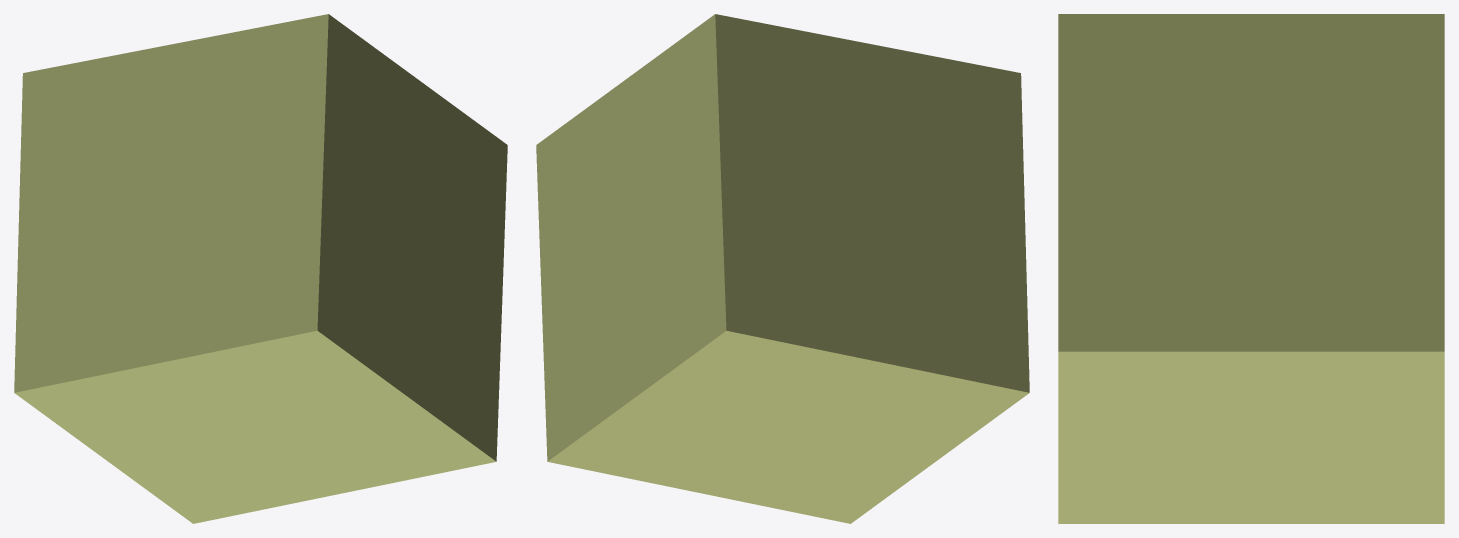
3 renders of one model, left to right at view 1: azimuth 30°, elevation 25°; view 2: azimuth 150°, elevation 25°; view 3: azimuth 270°, elevation 25°, orthographic. The views are drawn at different scales.
Visible parts, largest first — view 1: 0_1_0_2_1_3_0_3_1_3_1; view 2: 0_1_0_2_1_3_0_3_1_3_1; view 3: 0_1_0_2_1_3_0_3_1_3_1.
Part boxes in pixels (<box>): 0_1_0_2_1_3_0_3_1_3_1: <box>14,14,507,523</box>; 0_1_0_2_1_3_0_3_1_3_1: <box>536,14,1029,523</box>; 0_1_0_2_1_3_0_3_1_3_1: <box>1058,14,1444,523</box>.
Bounding box in the file's own units: 9.12 × 9.13 × 9.
